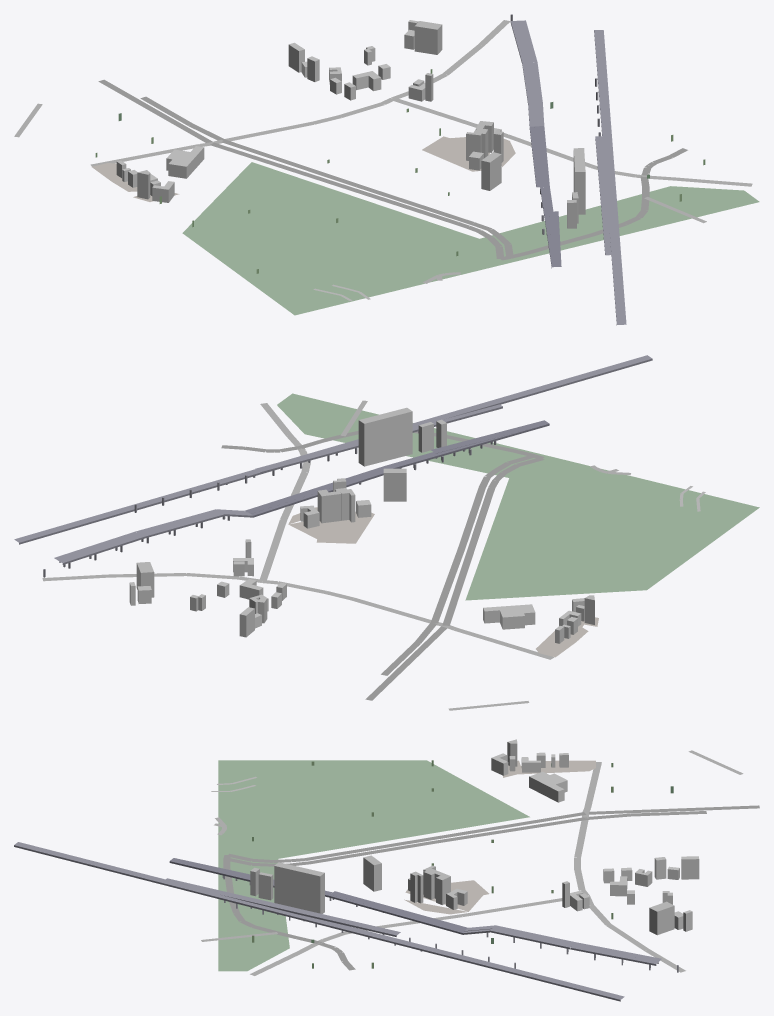
3 renders of one model, top to bottom at view 1: azimuth 30°, elevation 25°; view 2: azimuth 150°, elevation 25°; view 3: azimuth 270°, elevation 25°, orthographic. The views are drawn at different scales.
Size of the model in its own units: 593 by 47.64 by 748.
